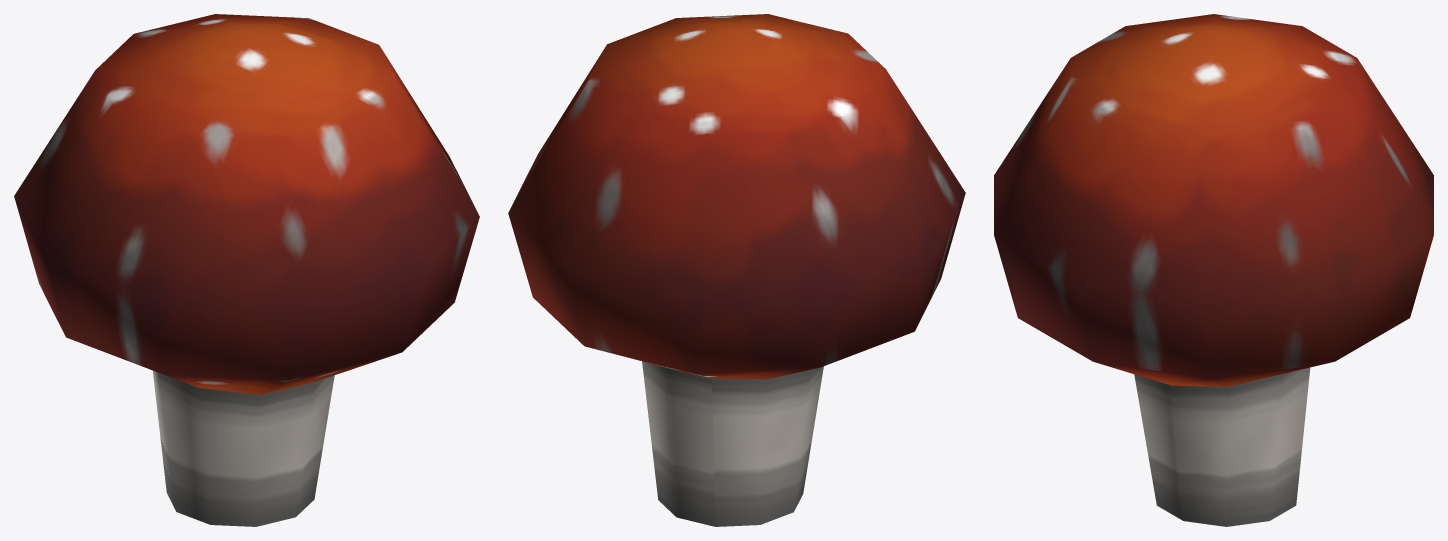
The model's file is shroom04.FBX.
3 views of the same model, side by side, from view 1: azimuth 30°, elevation 25°; view 2: azimuth 150°, elevation 25°; view 3: azimuth 270°, elevation 25° (orthographic).
Visible parts, largest first — view 1: Shroom04; view 2: Shroom04; view 3: Shroom04.
Part boxes in pixels (box(x1,y1,x2,y2)): Shroom04: box(14, 14, 479, 526); Shroom04: box(508, 14, 965, 526); Shroom04: box(994, 14, 1433, 526).
Size of the model in its own units: 10.23 by 11.33 by 9.73.
